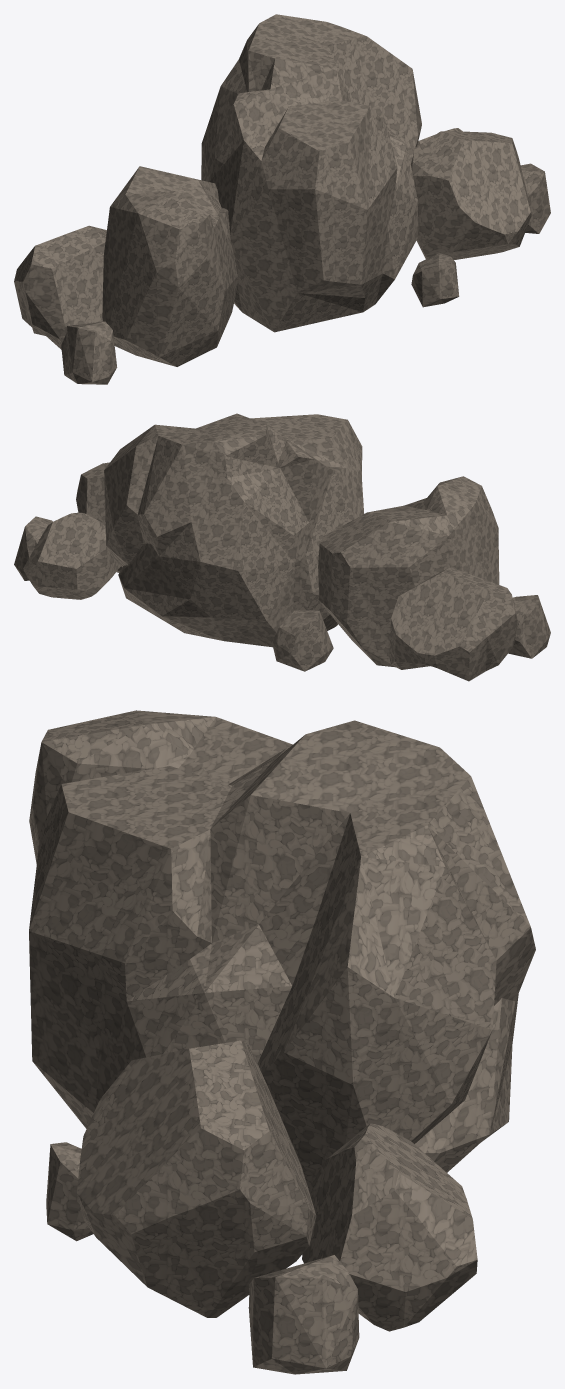
The model's file is synty-rock-pile-05.gltf.
The picture shows the model from 3 angles, top to bottom: view 1: azimuth 30°, elevation 25°; view 2: azimuth 150°, elevation 25°; view 3: azimuth 270°, elevation 25°; orthographic projection. The views are drawn at different scales.
Parts seen in each view (by area): view 1: SM_Rock_Pile_05; view 2: SM_Rock_Pile_05; view 3: SM_Rock_Pile_05.
Part boxes in pixels (box(x1,y1,x2,y2)): SM_Rock_Pile_05: box(14, 14, 550, 384); SM_Rock_Pile_05: box(14, 413, 550, 681); SM_Rock_Pile_05: box(29, 710, 535, 1374).
Size of the model in its own units: 10.37 by 4.36 by 4.68.
Materials: 1 (1 with a texture image).
